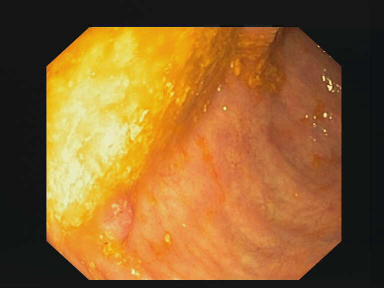polyp: (82, 192, 147, 242)
